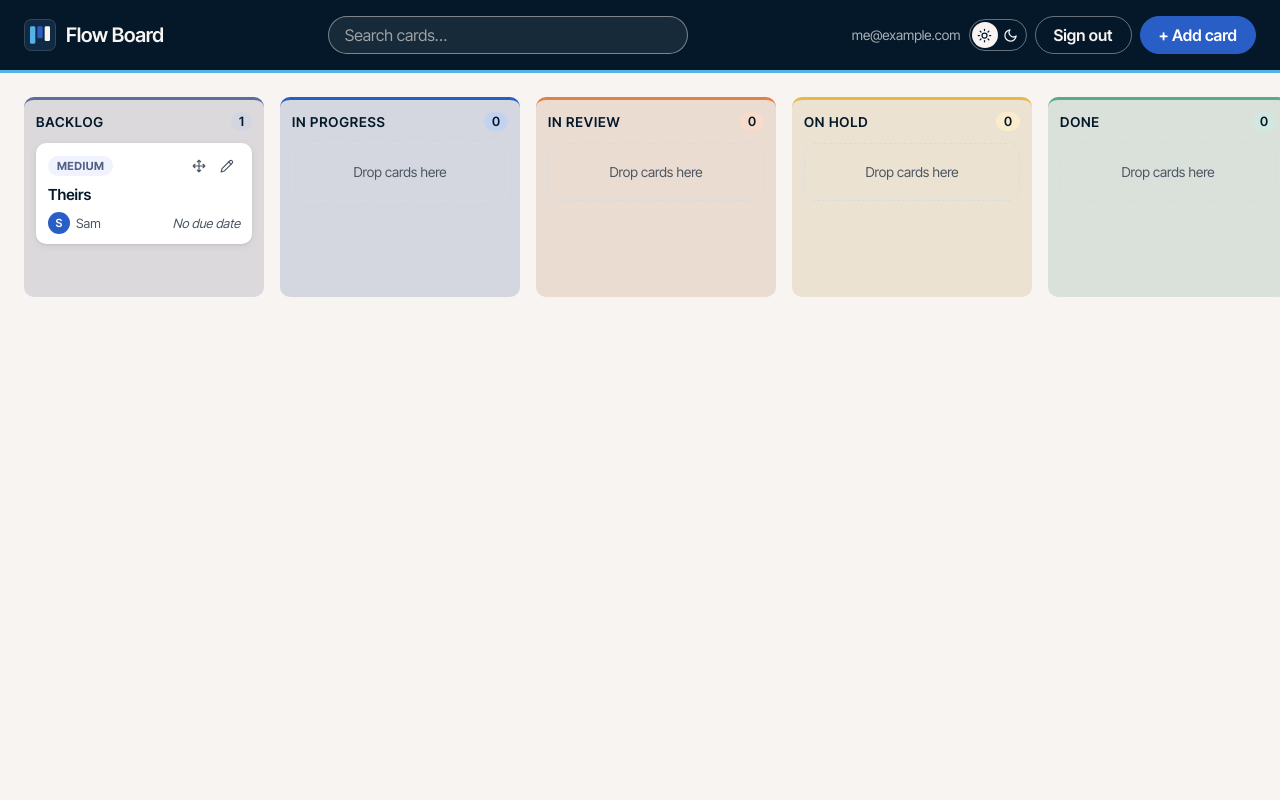
it: card ownership › has no Delete button in the editor for a teammate's card
Click the button named "Edit Theirs". click: coordinates (227, 166)
box: [214, 153, 240, 179]
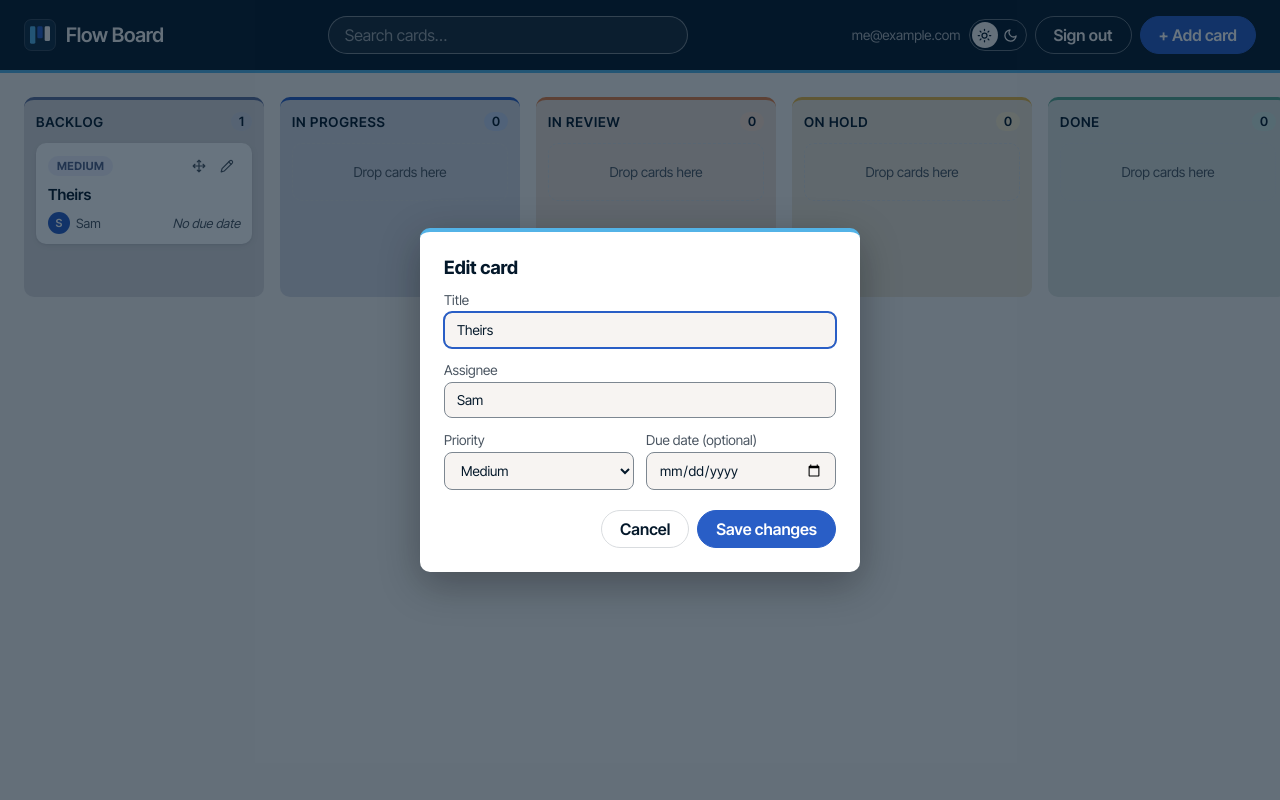
Expected: the button "Save changes" is shown, [697, 510, 836, 548]
